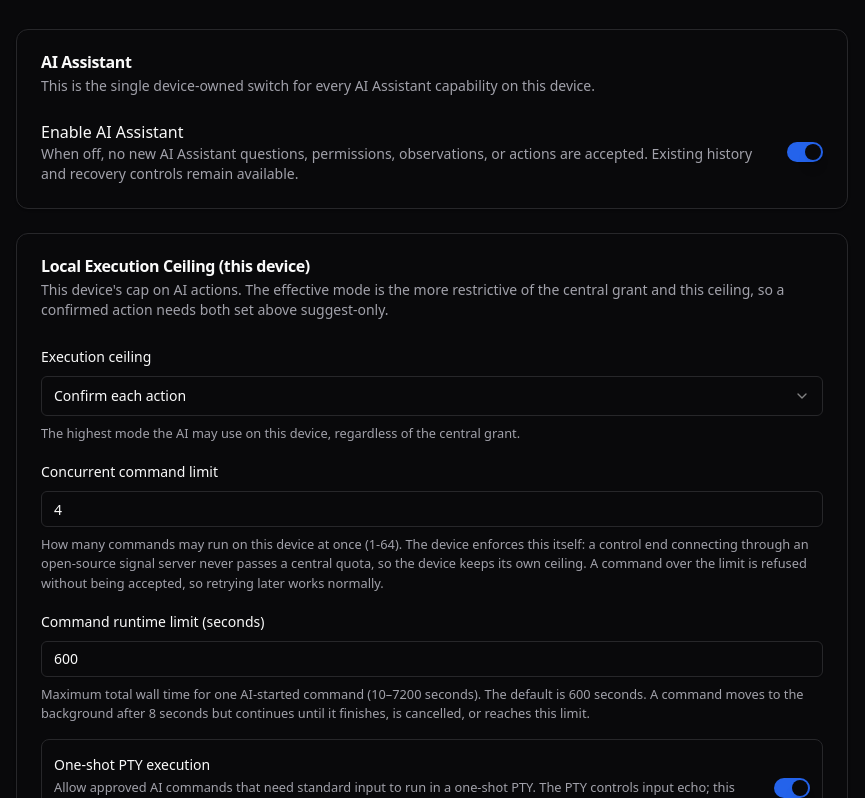
Test: AI execution policy cache after saving › keeps saving disabled until the saved snapshot is refreshed
Replace the text in the number field labelled "Concurrent command limit" with "9" at (432, 509), box left=41, top=491, right=823, bottom=527
(page scrolled)
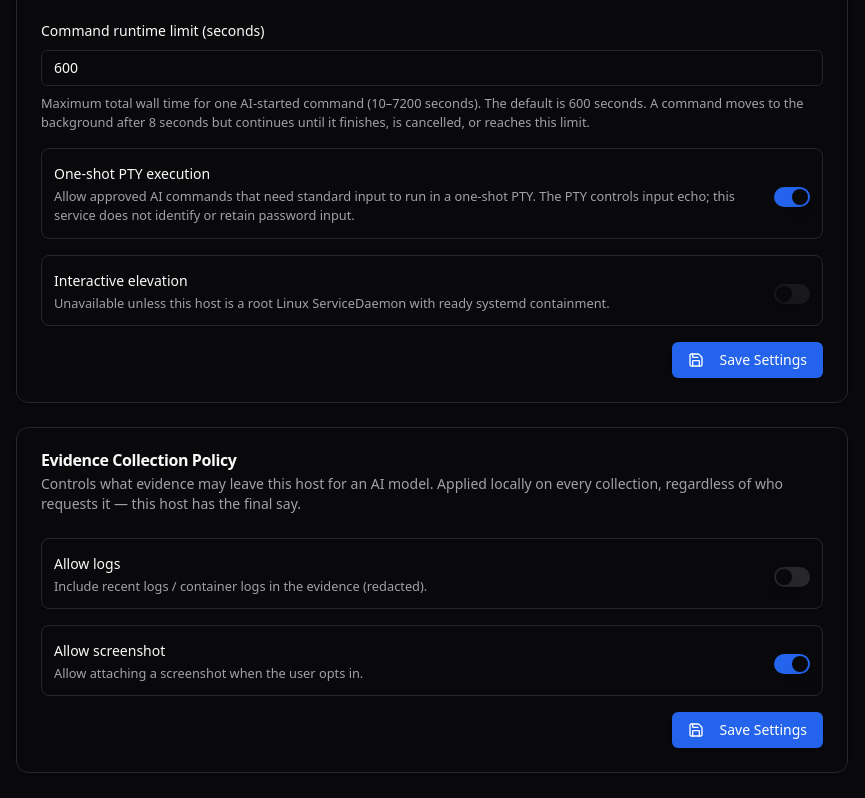
Click the 1st button "Save Settings" at (747, 360), box left=672, top=342, right=823, bottom=378
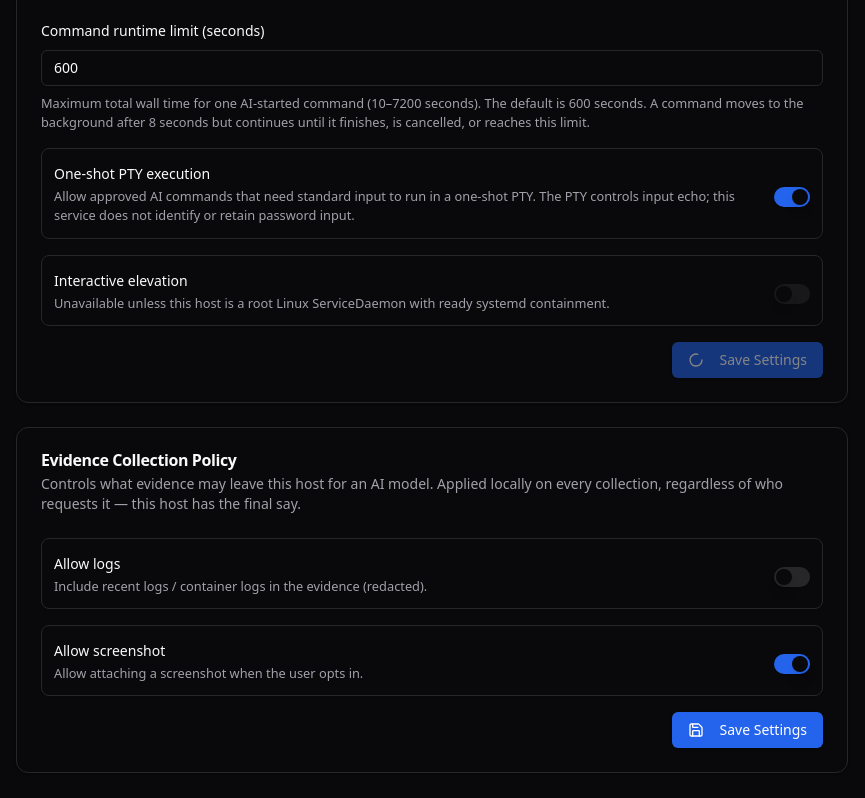
Result: the 1st button "Save Settings" is disabled
Click the 1st button "Save Settings" at (747, 360), box left=672, top=342, right=823, bottom=378
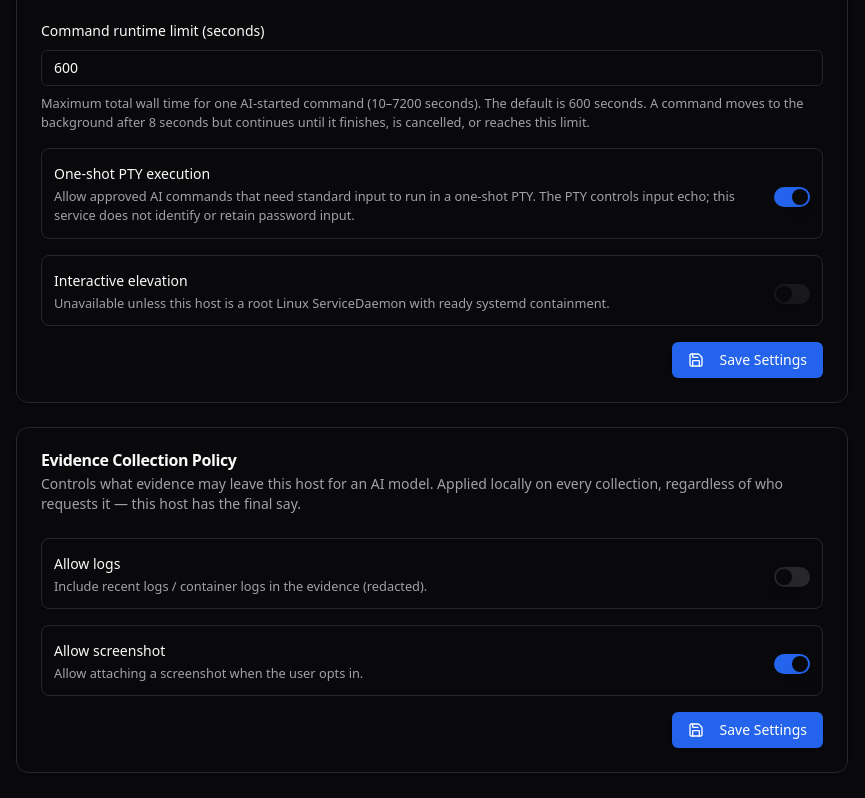
Result: the 1st button "Save Settings" is enabled at left=672, top=342, right=823, bottom=378
